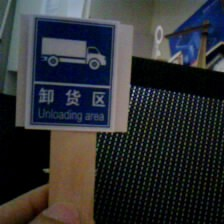unload: (26, 15, 120, 133)
